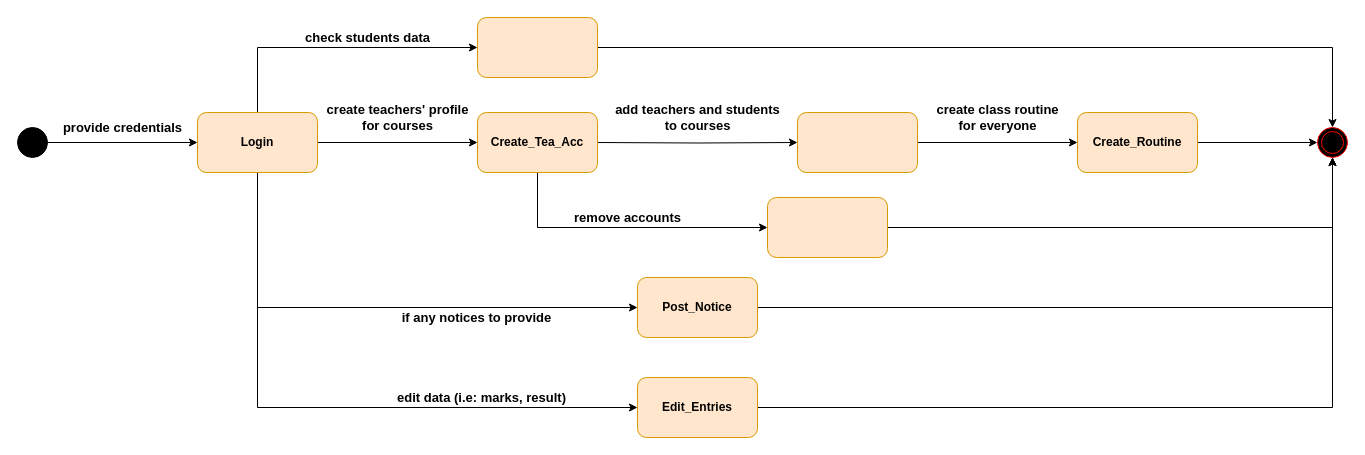
Image size: 1365x455. Some labels were removed from this diagram. The shapes that lost their labels are listed below. From the top down, each one's centre as x and y in pixels, then its label:
At (x=537, y=47): "Verify_Acc".
At (x=857, y=142): "Initiate_Course".
At (x=827, y=227): "Delete_Account".
